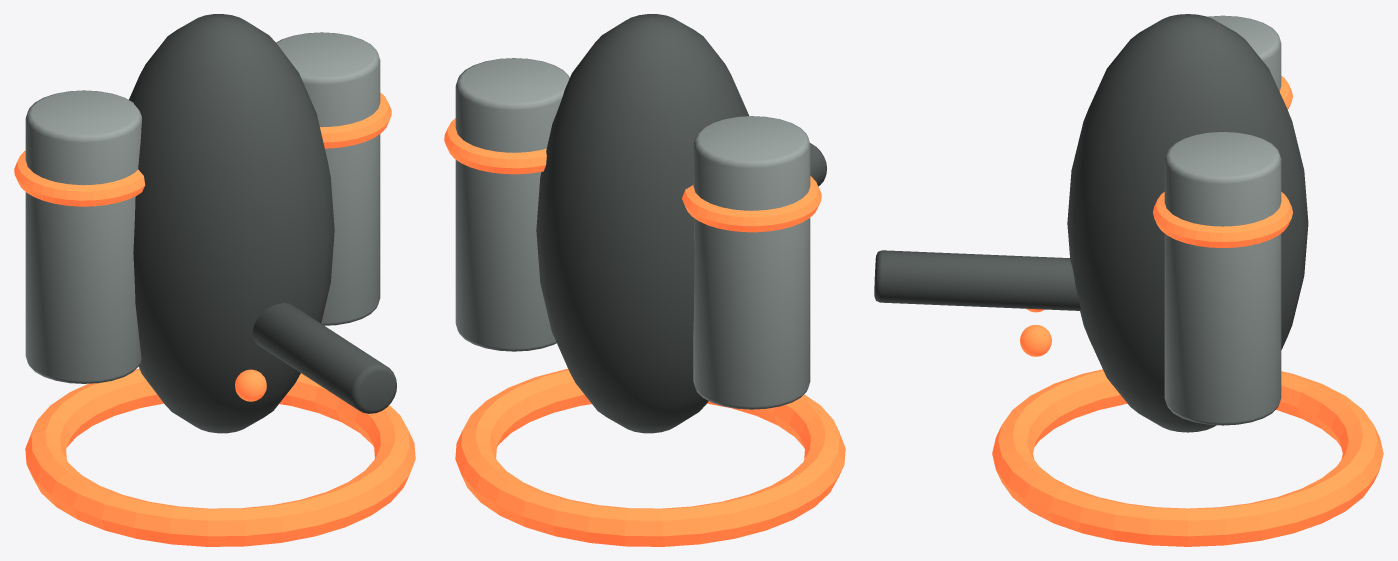
File: card_disruptor.glb
The picture shows the model from 3 angles, left to right: view 1: azimuth 30°, elevation 25°; view 2: azimuth 150°, elevation 25°; view 3: azimuth 270°, elevation 25°; orthographic projection.
Visible parts, largest first — view 1: card_disruptor; view 2: card_disruptor; view 3: card_disruptor.
Boxes of the visible parts, x1=… form: card_disruptor: x1=14, y1=14, x2=415, y2=546; card_disruptor: x1=444, y1=14, x2=845, y2=546; card_disruptor: x1=874, y1=14, x2=1383, y2=546.
Bounding box in the file's own units: 1.42 × 1.71 × 1.74.
